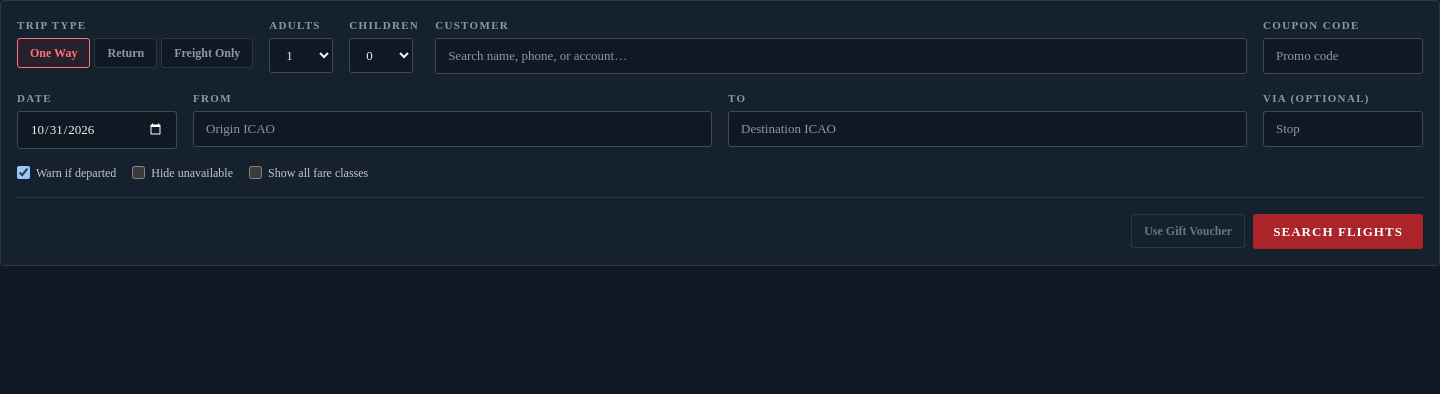
Test: NewBookingSearchForm — search behaviour › does not search when a later submit is invalid
Type "PANC" into the field with placeholder "Origin ICAO" at [452, 129], box [193,111,712,147]
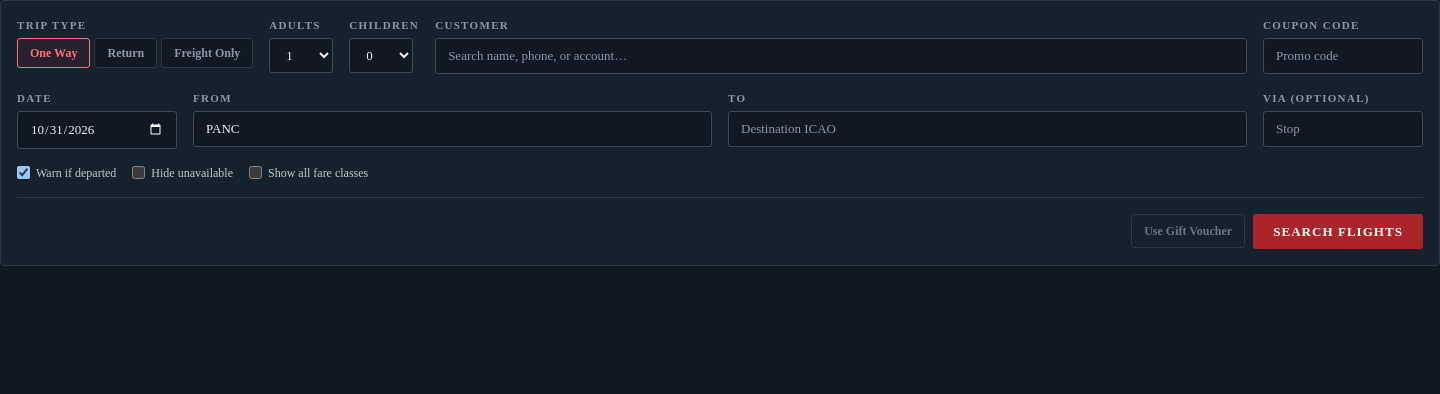
Type "PABE" into the field with placeholder "Destination ICAO" at [988, 129], box [728,111,1247,147]
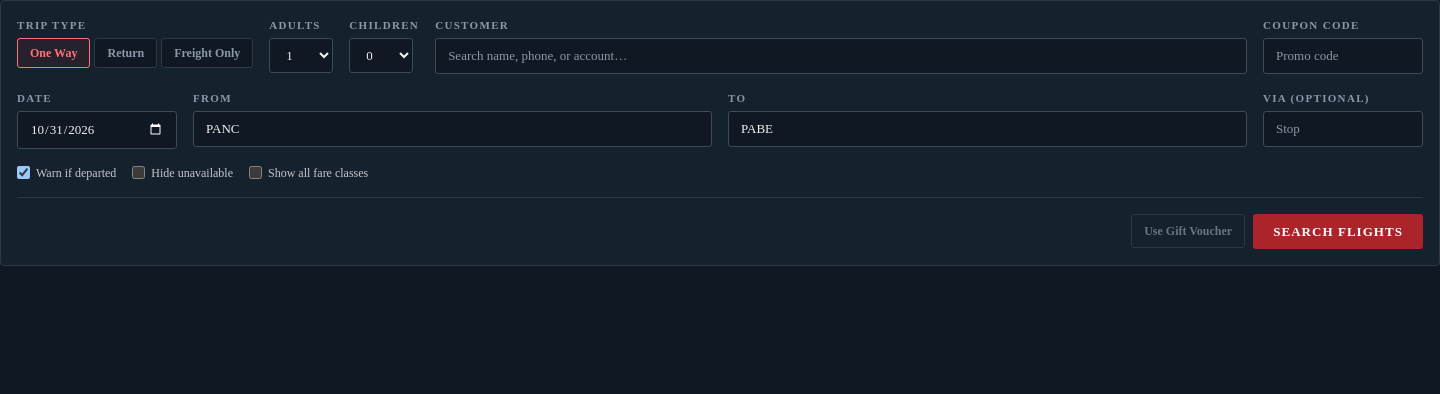
Click the button "Search Flights" at [1338, 231], box [1253,214,1423,249]
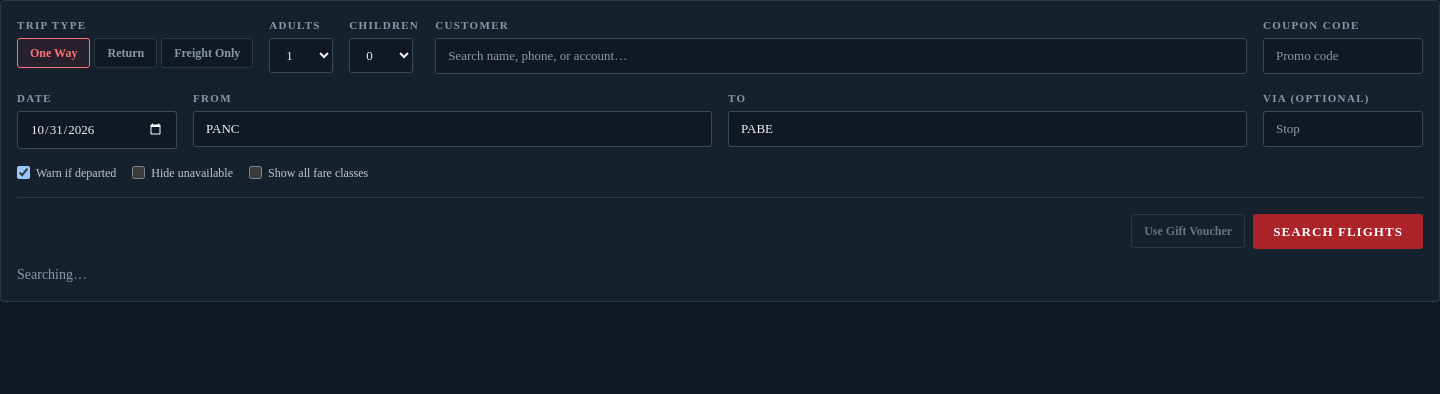
Clear the 2nd field with placeholder "Destination ICAO" at [988, 129], box [728,111,1247,147]
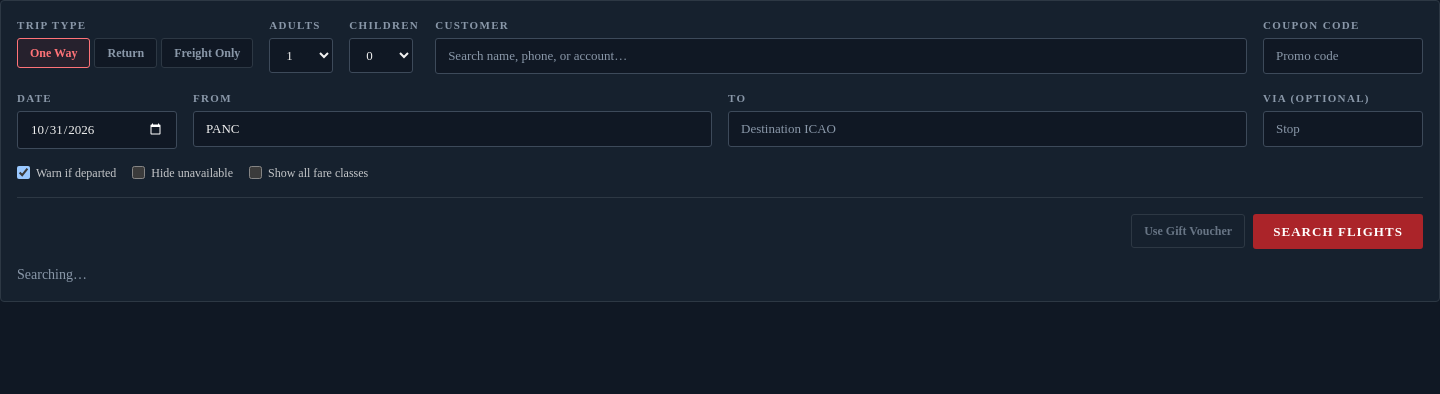
Click the button "Search Flights" at [1338, 231], box [1253,214,1423,249]
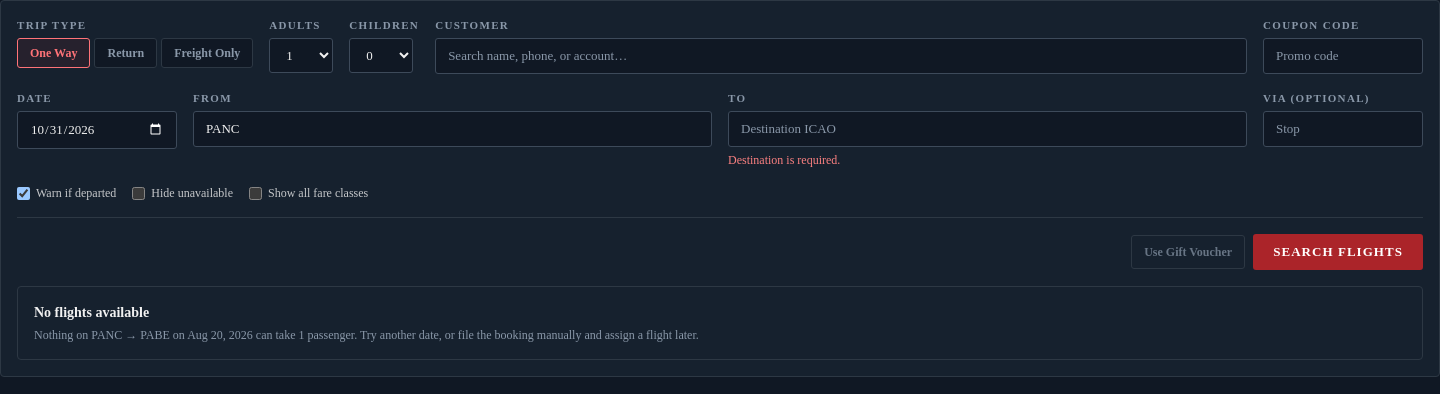
Now the text "Destination is required." is shown, box [728,154,840,168]
